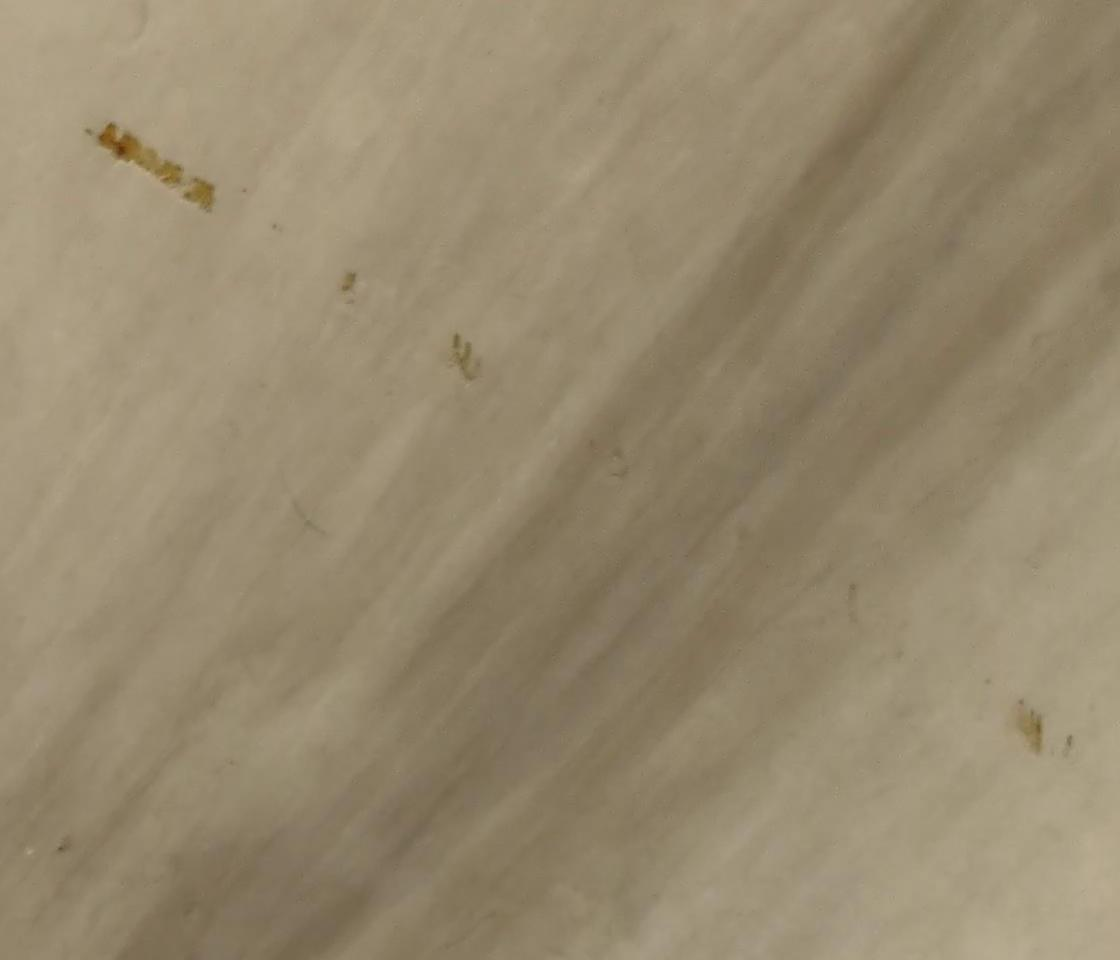rust: (91, 122, 162, 170)
